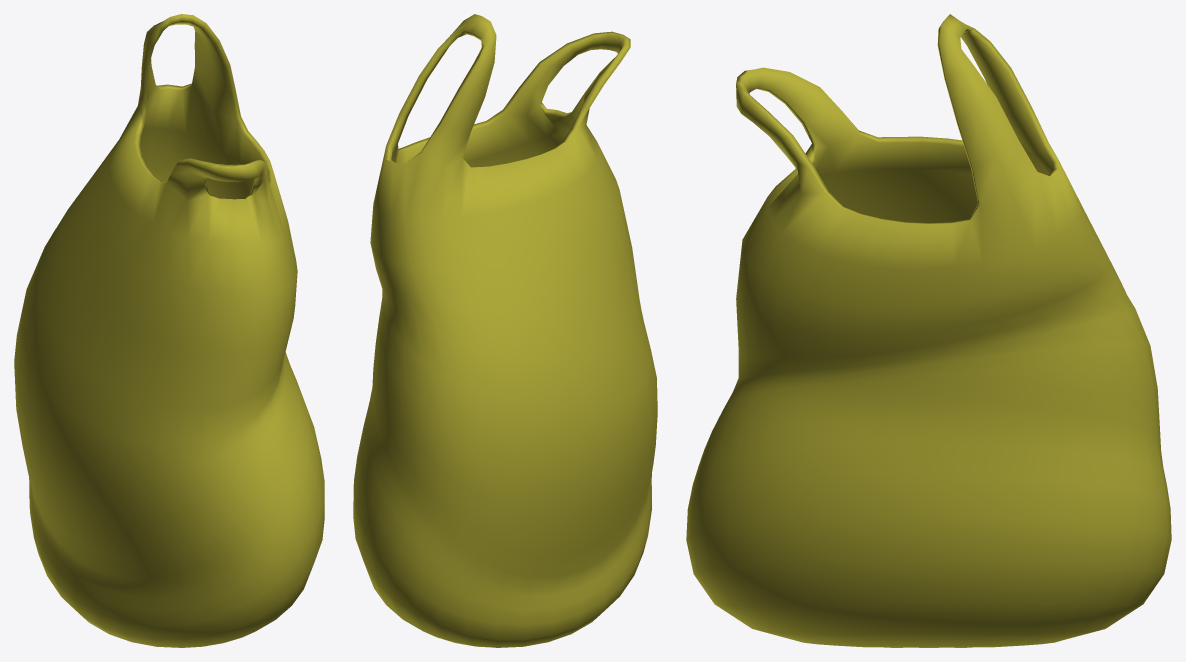
Rendered from BolsaPlastico_01.fbx.
3 renders of one model, left to right at view 1: azimuth 30°, elevation 25°; view 2: azimuth 150°, elevation 25°; view 3: azimuth 270°, elevation 25°, orthographic. The views are drawn at different scales.
Parts seen in each view (by area): view 1: BolsaPlastico_01; view 2: BolsaPlastico_01; view 3: BolsaPlastico_01.
Boxes of the visible parts, left/top/right/bottom form: BolsaPlastico_01: left=14, top=14, right=324, bottom=647; BolsaPlastico_01: left=353, top=14, right=657, bottom=647; BolsaPlastico_01: left=686, top=14, right=1171, bottom=647.
Size of the model in its own units: 32.39 by 81.2 by 54.54.
